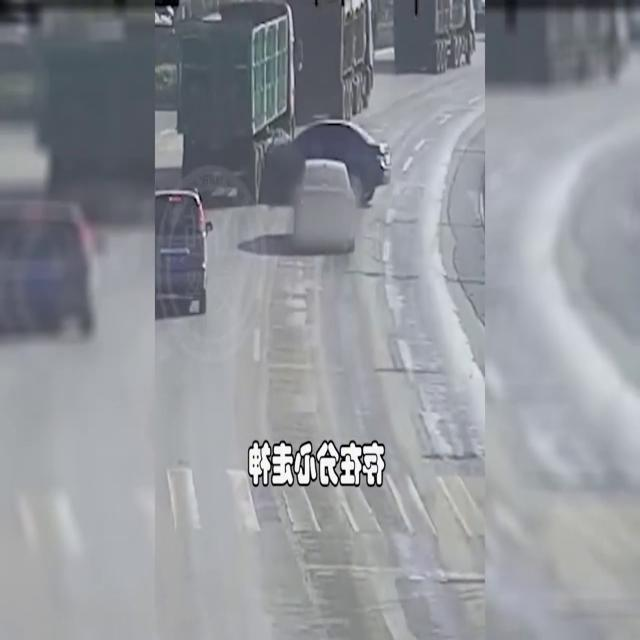accident: (174, 1, 390, 208)
